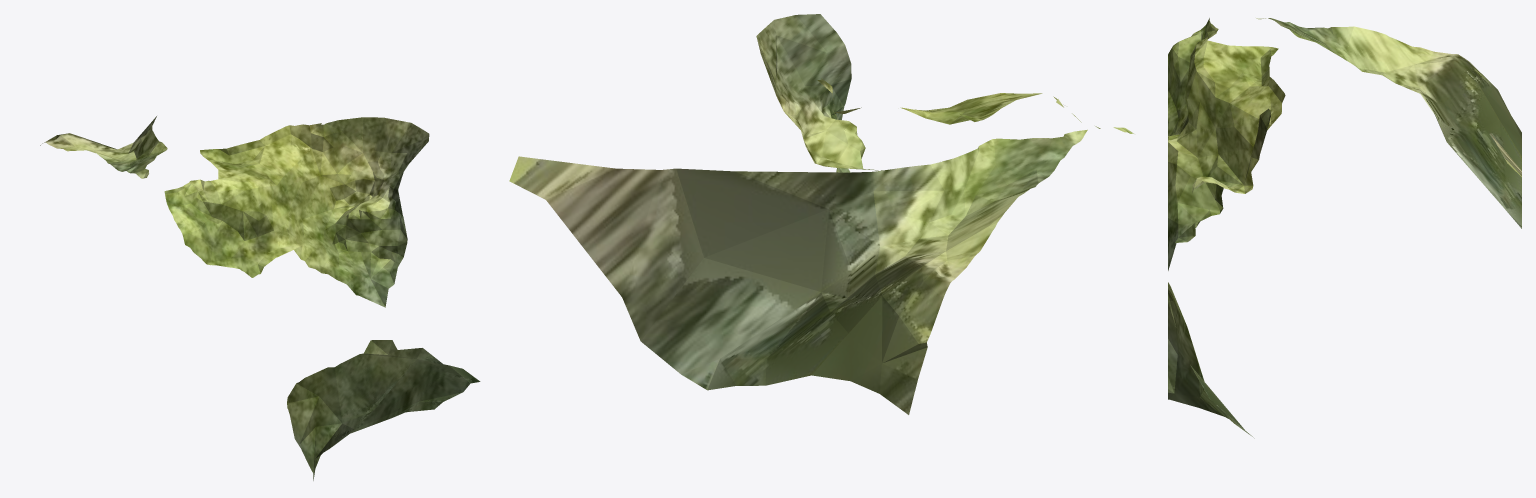
3 renders of one model, left to right at view 1: azimuth 30°, elevation 25°; view 2: azimuth 150°, elevation 25°; view 3: azimuth 270°, elevation 25°, orthographic. The views are drawn at different scales.
Bounding box in the file's own units: 5.9 × 5.9 × 5.9.
Materials: 3 (3 with a texture image).
